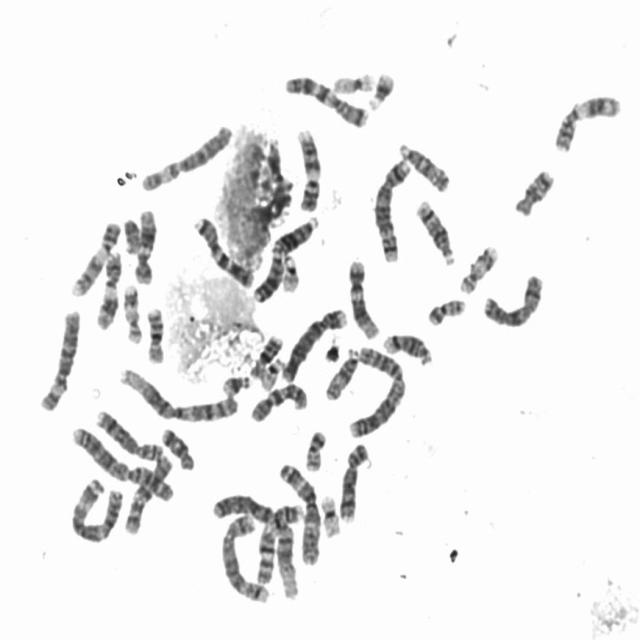A1: (116, 360, 242, 425), (252, 498, 307, 588)
A2: (67, 420, 175, 502), (344, 340, 409, 439)
A3: (275, 456, 324, 567), (66, 472, 125, 544)
B4: (210, 488, 304, 602), (278, 302, 349, 384)
B5: (217, 508, 271, 606), (371, 153, 414, 265)
C10: (120, 449, 174, 535), (246, 376, 310, 424)
C11: (549, 88, 624, 154), (90, 246, 124, 332)
C12: (344, 253, 383, 341), (130, 202, 158, 286)
C6: (136, 118, 234, 193), (34, 302, 82, 412)
C7: (190, 210, 257, 289), (281, 70, 372, 128)
C8: (91, 403, 166, 462), (335, 436, 373, 524)
C9: (66, 215, 123, 298), (292, 122, 324, 212)
D13: (270, 210, 321, 256), (249, 242, 286, 304)
D14: (412, 194, 458, 267), (380, 328, 436, 366)
D15: (395, 136, 453, 194), (322, 344, 361, 402)
E16: (247, 329, 286, 380), (142, 301, 168, 366)
E17: (456, 239, 502, 295), (119, 279, 144, 345)
E18: (510, 162, 558, 218), (157, 421, 197, 471)
F19: (329, 66, 376, 96), (316, 489, 344, 539)
F20: (424, 292, 470, 327), (301, 424, 329, 472)
G21: (364, 65, 398, 112), (218, 369, 253, 398)
G22: (256, 352, 287, 392), (278, 248, 302, 294)
X: (478, 268, 546, 330)
Y: (119, 213, 142, 254)
